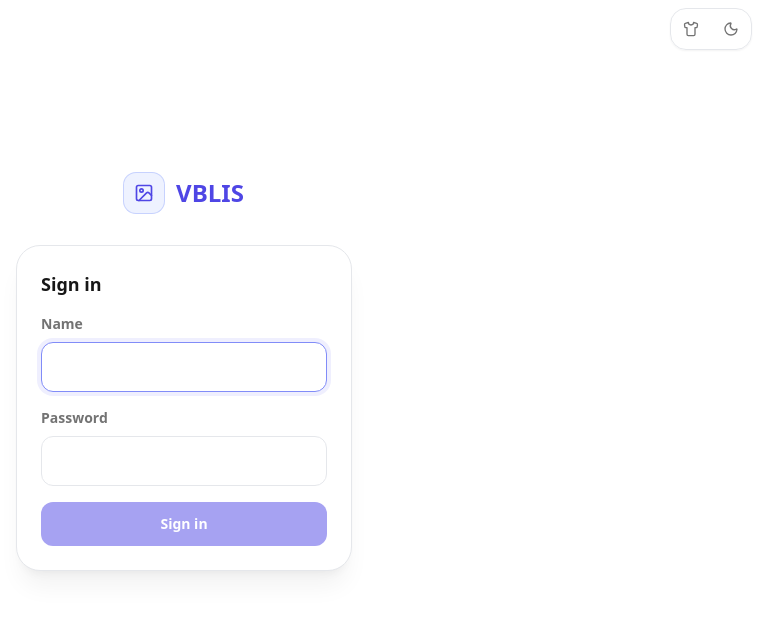
it: SessionGate › in a browser › signing in › refuses a challenge with cost values outside the server's bounds, without trying to sign in
Type "alice" into the field labelled "Name" at (184, 367), box [41,342,327,392]
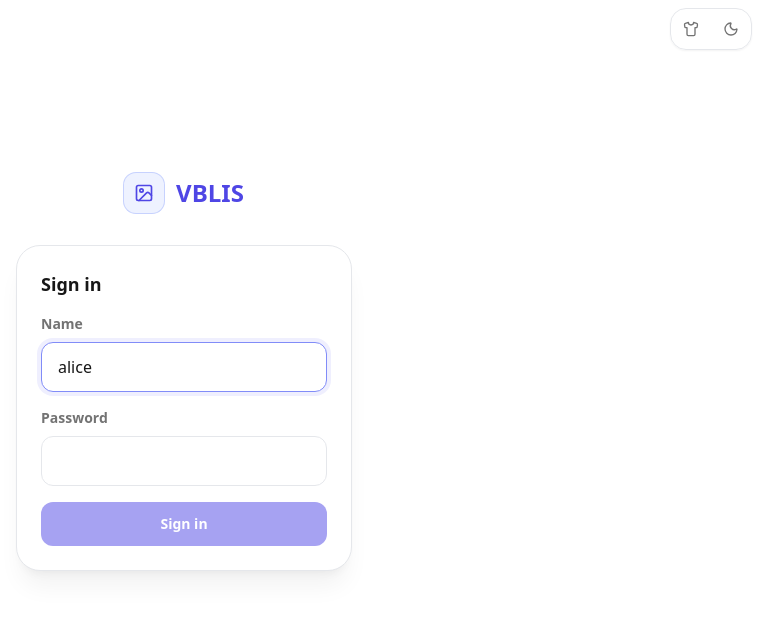
Type "secret" into the password field labelled "Password" at (184, 461), box [41,436,327,486]
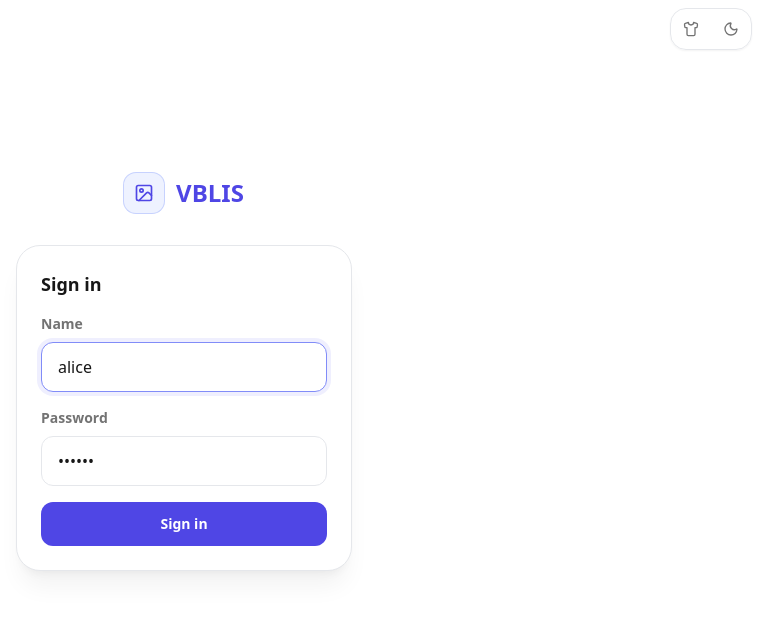
Click the button "Sign in" at (184, 524), box [41,502,327,546]
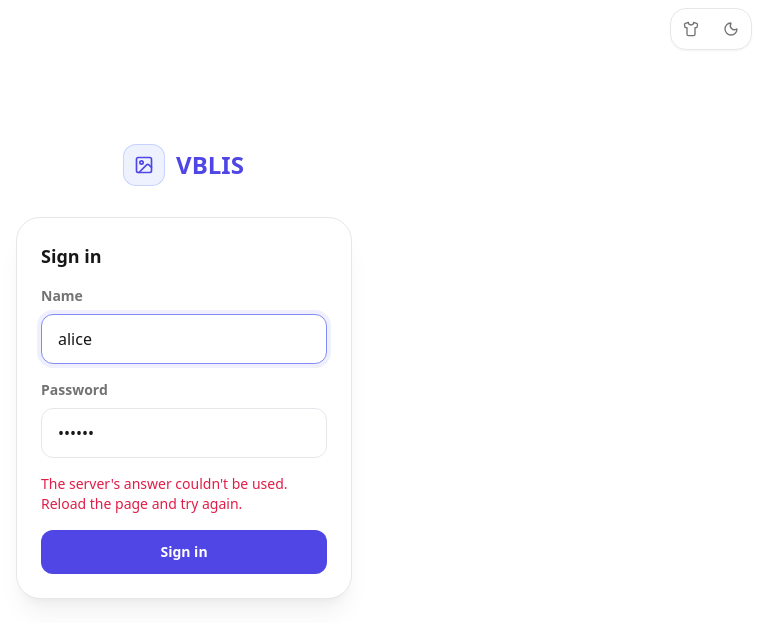
Check: the message reads "The server's answer couldn't be used. Reload the page and try again.", box [41,474,288,513]
